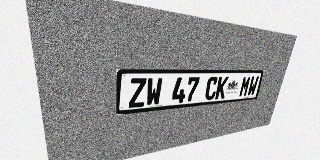4: (171, 77, 187, 104)
7: (184, 77, 200, 102)
C: (204, 77, 219, 100)
K: (215, 76, 229, 99)
M: (238, 76, 251, 97)
W: (145, 78, 163, 106), (247, 76, 259, 96)
Z: (129, 78, 147, 108)
